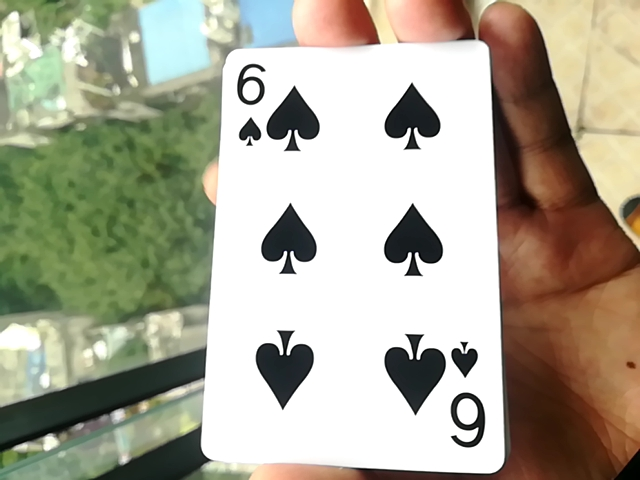ht 6: (200, 29, 501, 480)
